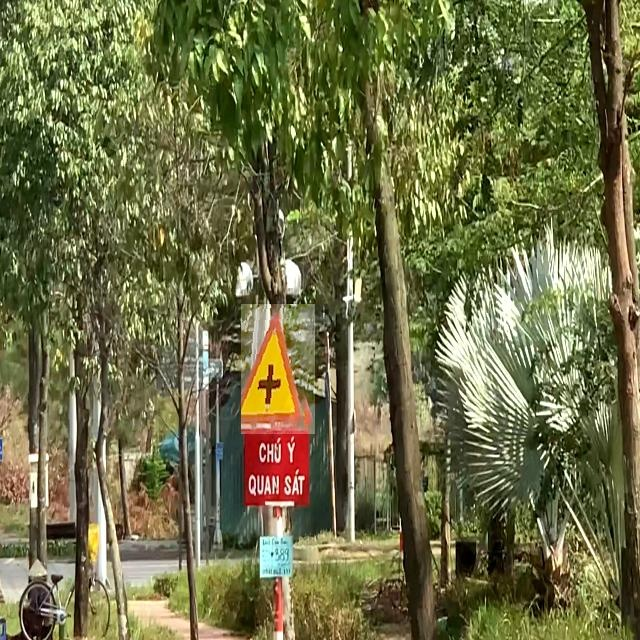bien_nguy_hiem: (241, 304, 315, 434)
